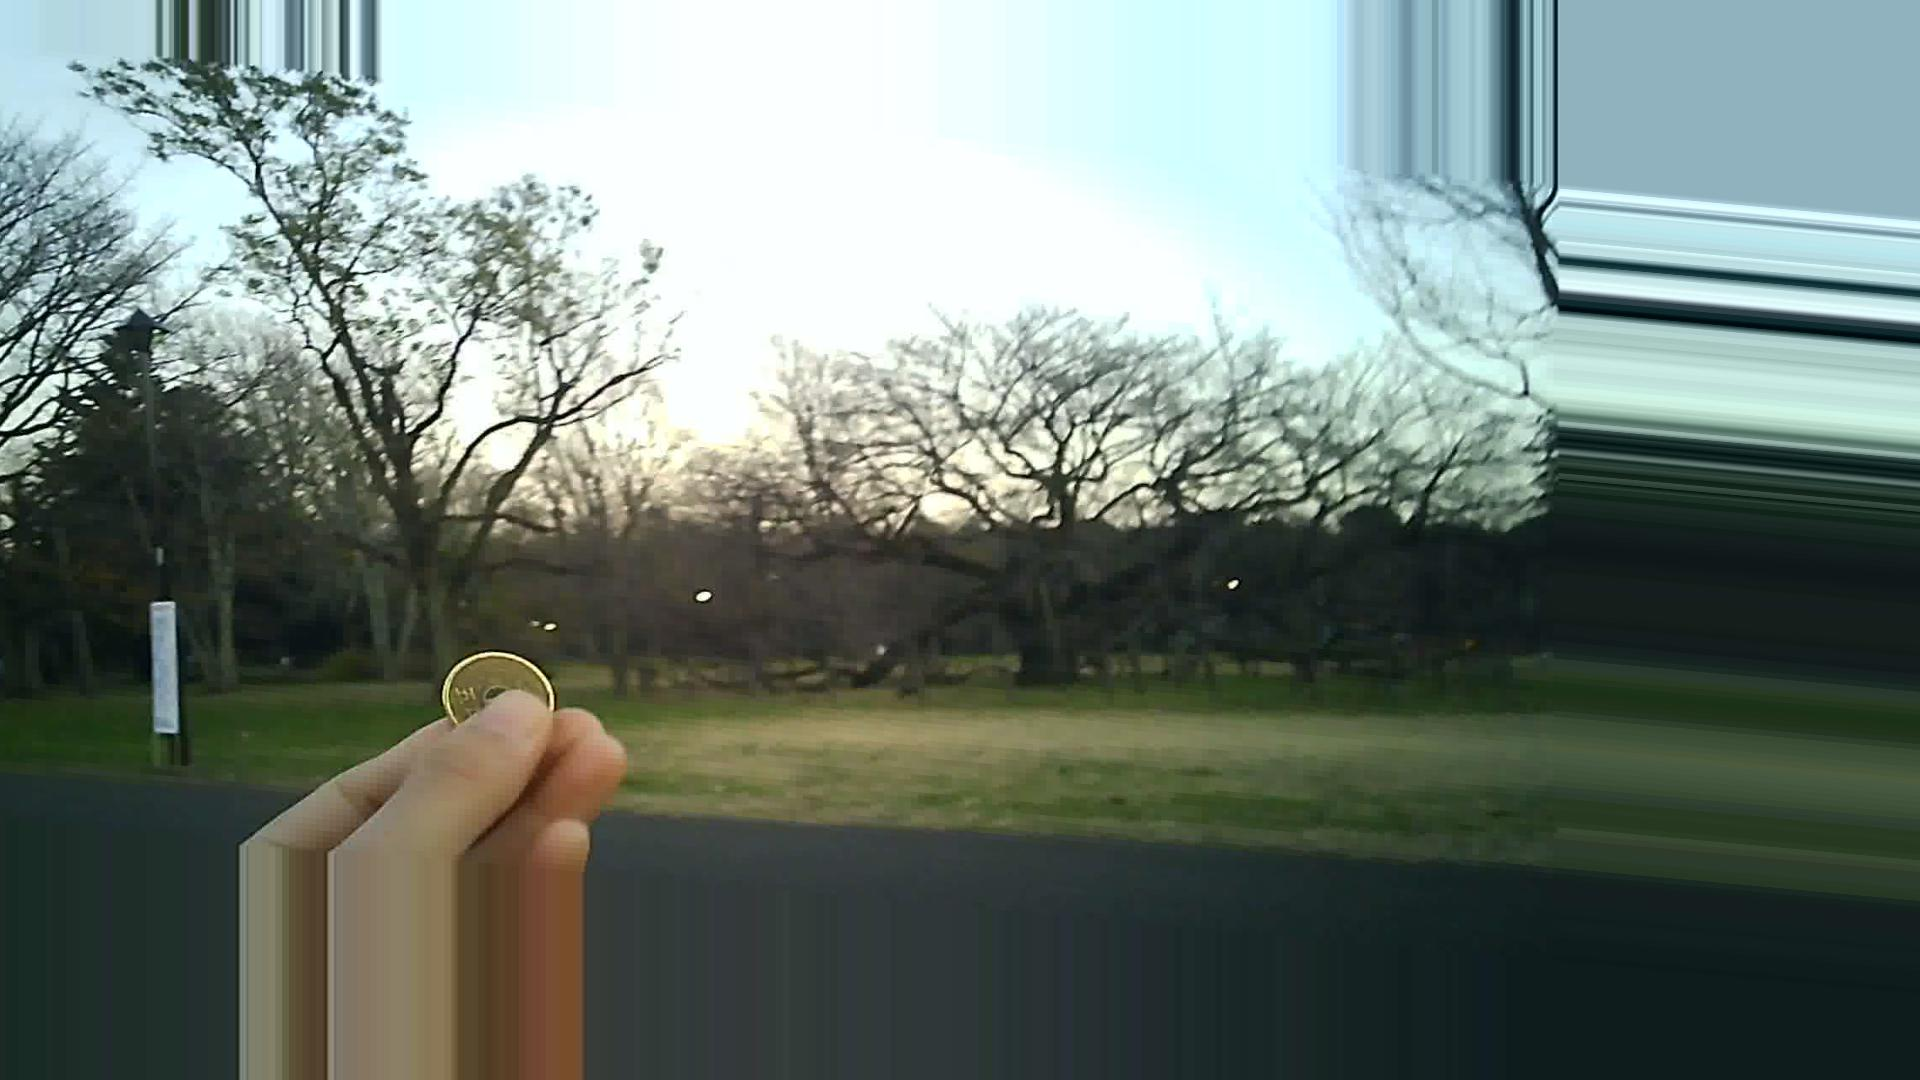5 Yen: (436, 642, 563, 752)
